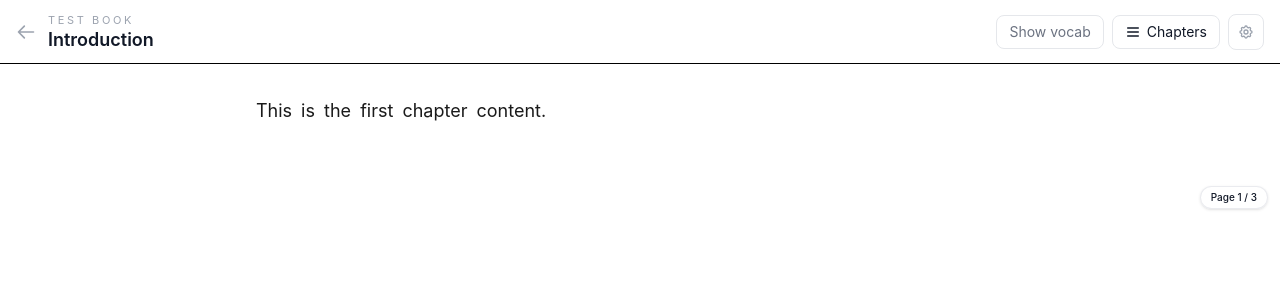
Test: ReaderPage › clear button removes all words from panel
Click the text "first" at (377, 110), box [360,100,393,121]
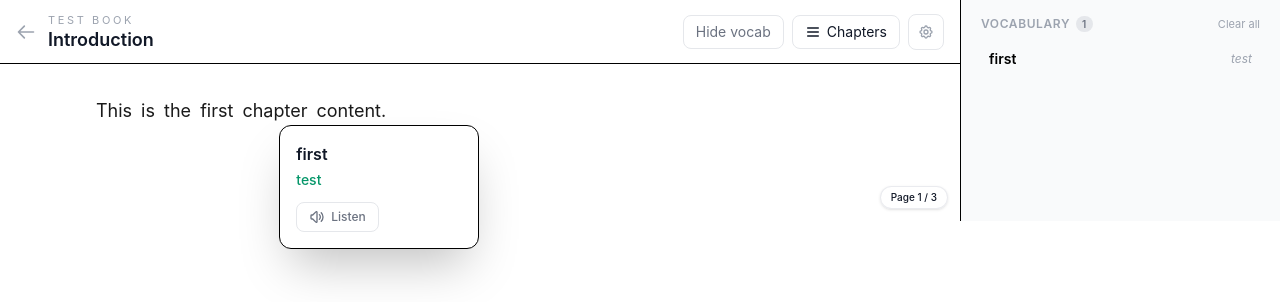
Click the button "Clear all" at (1239, 24), box [1218,16,1260,32]
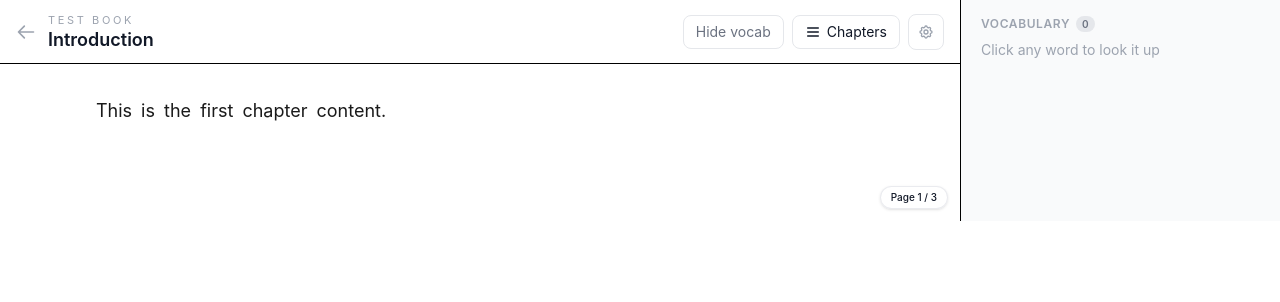
Result: the text "Click any word to look it up" is shown at [981,41,1160,58]
